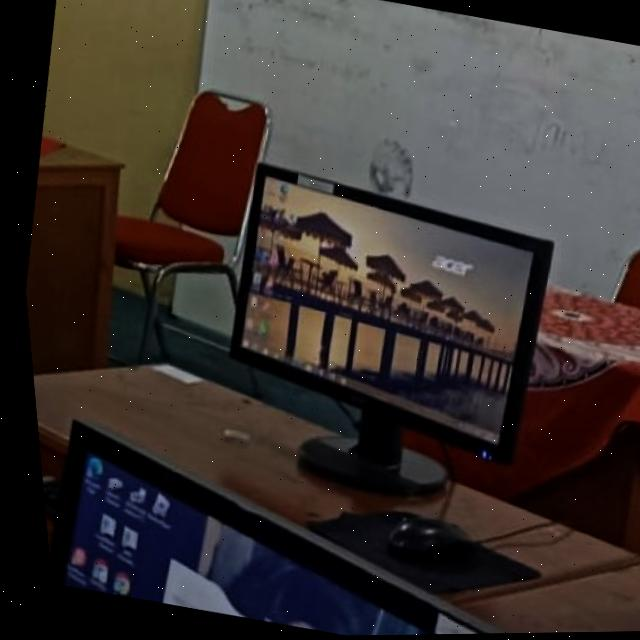onscreen: (224, 165, 548, 496)
